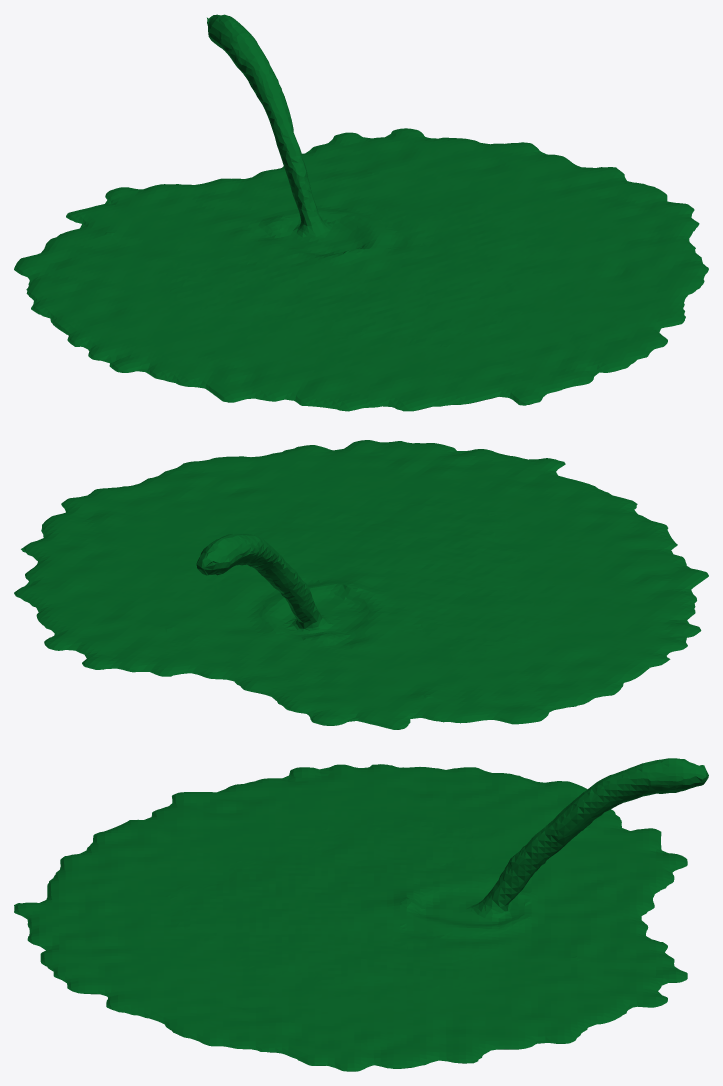
File: fluid_45.fbx
3 views of the same model, one above another, from view 1: azimuth 30°, elevation 25°; view 2: azimuth 150°, elevation 25°; view 3: azimuth 270°, elevation 25° (orthographic). The views are drawn at different scales.
Parts seen in each view (by area): view 1: Cube; view 2: Cube; view 3: Cube.
Part boxes in pixels (x1=…): Cube: x1=14, y1=14, x2=708, y2=411; Cube: x1=14, y1=440, x2=708, y2=729; Cube: x1=14, y1=758, x2=708, y2=1071.
Bounding box in the file's own units: 726 × 177 × 695.
